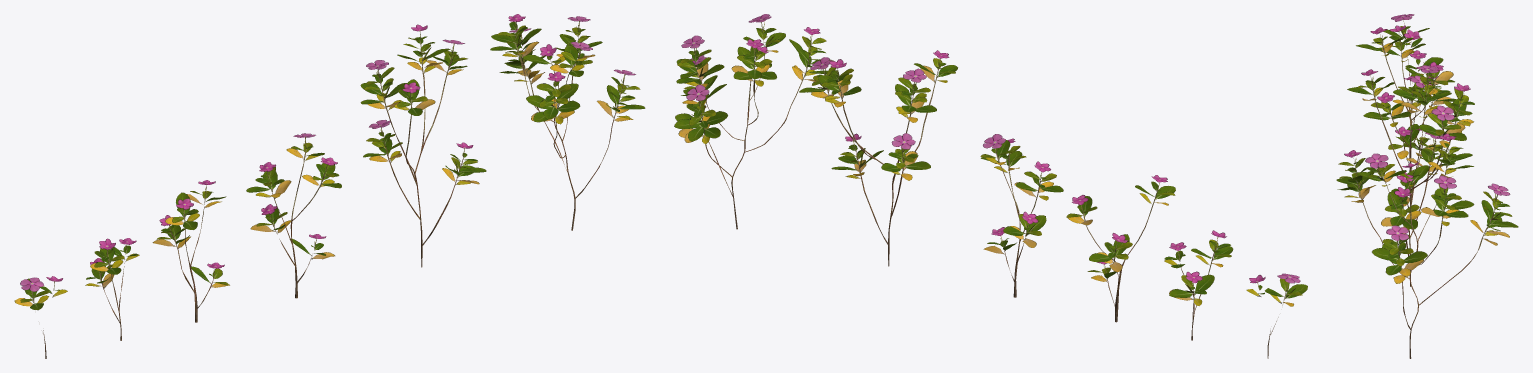
The model's file is periwinkle_plant.glb.
3 renders of one model, left to right at view 1: azimuth 30°, elevation 25°; view 2: azimuth 150°, elevation 25°; view 3: azimuth 270°, elevation 25°, orthographic. The views are drawn at different scales.
Parts seen in each view (by area): view 1: periwinkle_plant_01_LOD0, periwinkle_plant_02_LOD0, periwinkle_plant_03_LOD0, periwinkle_plant_04_LOD0, periwinkle_plant_05_LOD0, periwinkle_plant_06_LOD0; view 2: periwinkle_plant_01_LOD0, periwinkle_plant_02_LOD0, periwinkle_plant_03_LOD0, periwinkle_plant_04_LOD0, periwinkle_plant_05_LOD0, periwinkle_plant_06_LOD0; view 3: periwinkle_plant_01_LOD0, periwinkle_plant_02_LOD0, periwinkle_plant_03_LOD0, periwinkle_plant_04_LOD0, periwinkle_plant_05_LOD0, periwinkle_plant_06_LOD0.
Boxes of the visible parts, x1,y1,x2,y2 form: periwinkle_plant_01_LOD0: (490, 14, 645, 230); periwinkle_plant_02_LOD0: (360, 24, 486, 267); periwinkle_plant_03_LOD0: (246, 133, 341, 298); periwinkle_plant_04_LOD0: (152, 180, 229, 322); periwinkle_plant_05_LOD0: (85, 238, 139, 340); periwinkle_plant_06_LOD0: (14, 276, 67, 358); periwinkle_plant_01_LOD0: (674, 14, 833, 229); periwinkle_plant_02_LOD0: (799, 50, 957, 266); periwinkle_plant_03_LOD0: (980, 134, 1063, 297); periwinkle_plant_04_LOD0: (1066, 175, 1175, 322); periwinkle_plant_05_LOD0: (1164, 230, 1233, 340); periwinkle_plant_06_LOD0: (1246, 273, 1307, 358); periwinkle_plant_01_LOD0: (1336, 133, 1518, 358); periwinkle_plant_02_LOD0: (1347, 65, 1474, 286); periwinkle_plant_03_LOD0: (1363, 75, 1440, 207); periwinkle_plant_04_LOD0: (1356, 27, 1455, 171); periwinkle_plant_05_LOD0: (1377, 25, 1454, 122); periwinkle_plant_06_LOD0: (1383, 14, 1429, 103).
Size of the model in its own units: 1.24 by 0.4107 by 0.3207.
Materials: 1 (1 with a texture image).
